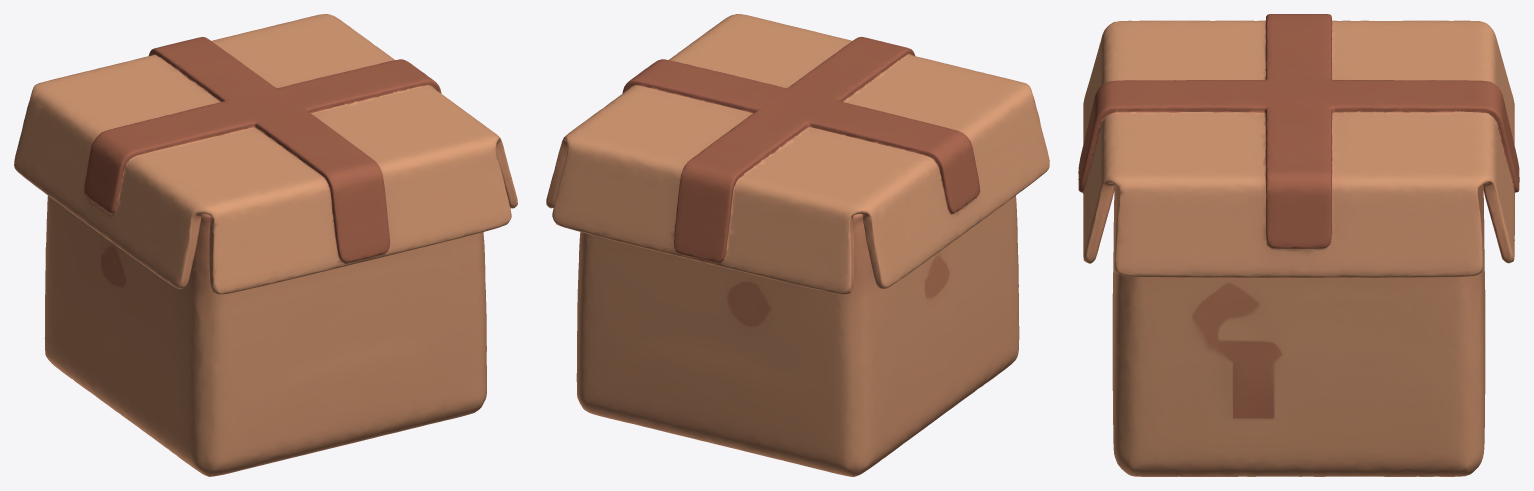
File: caja.glb
The picture shows the model from 3 angles, left to right: view 1: azimuth 30°, elevation 25°; view 2: azimuth 150°, elevation 25°; view 3: azimuth 270°, elevation 25°; orthographic projection. The views are drawn at different scales.
Size of the model in its own units: 0.9752 by 0.7832 by 0.9965.
1 material, 1 textured.
